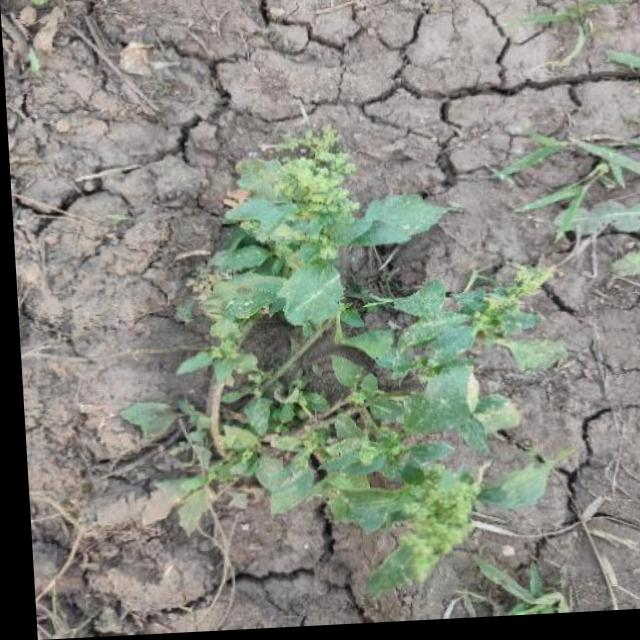weed: (76, 134, 535, 592)
